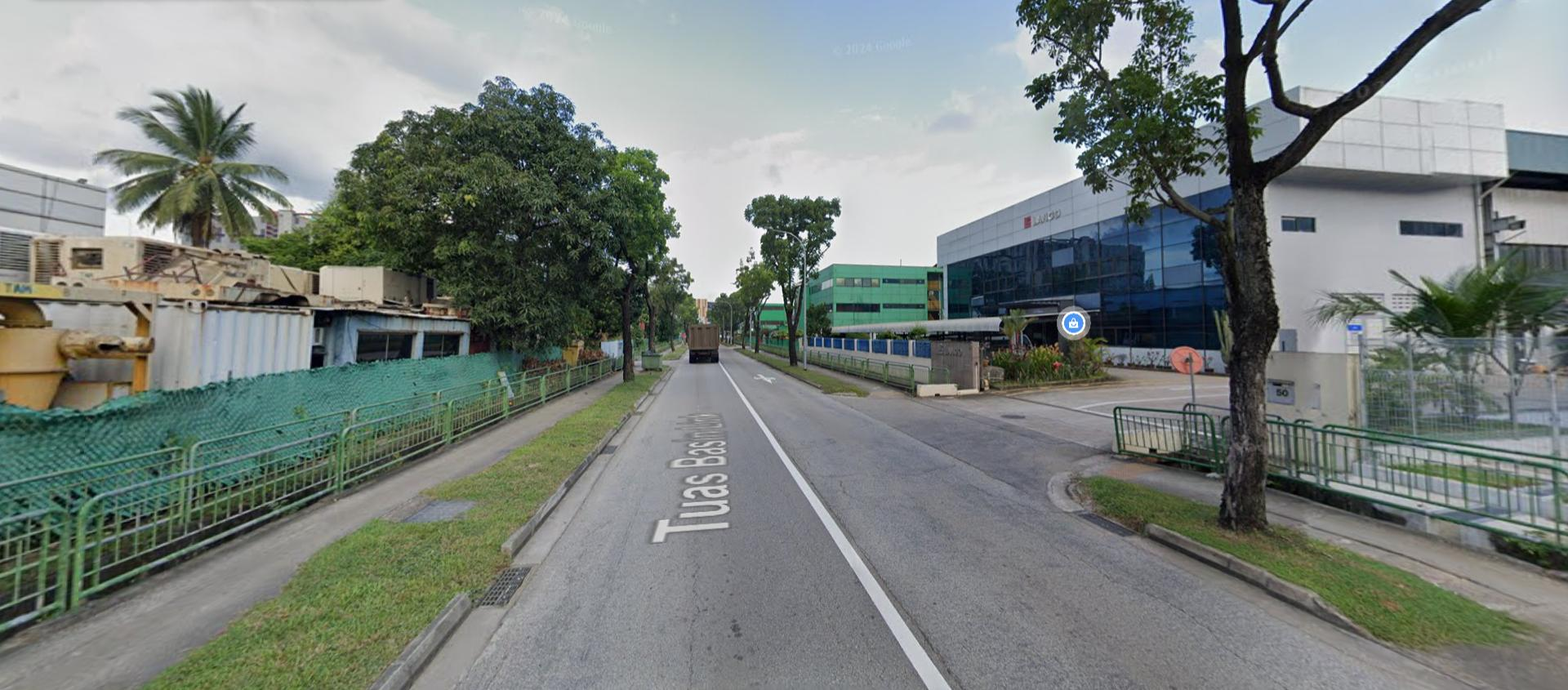defect: (478, 566, 534, 606)
